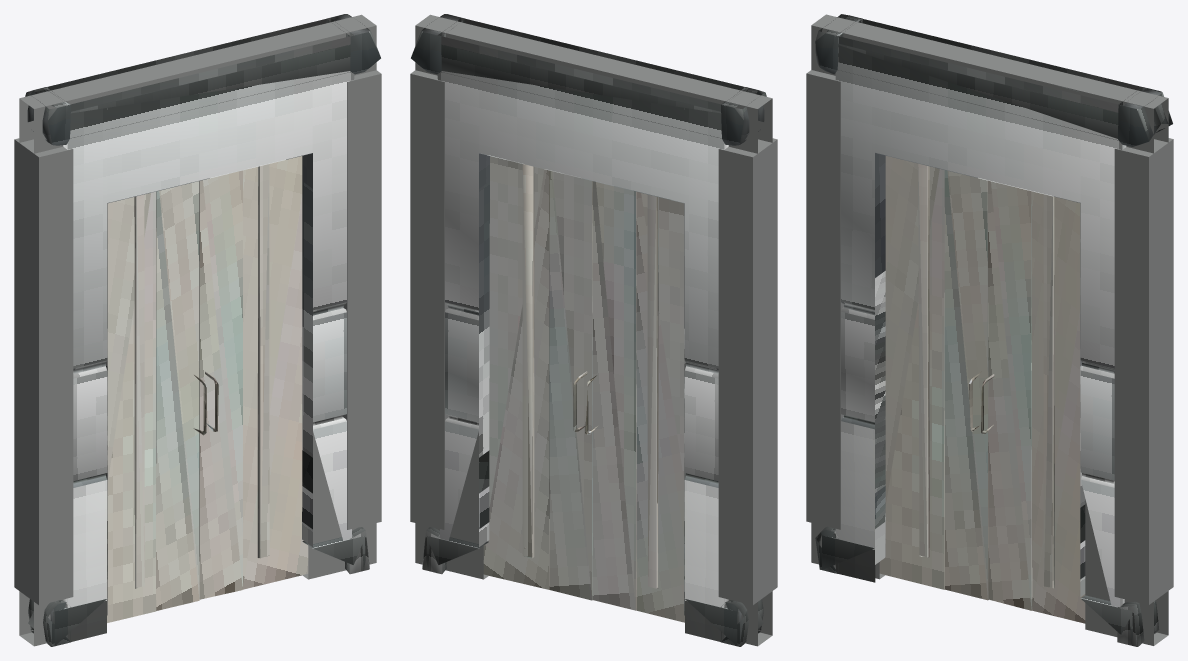
The model's file is wall-door.lod2.glb.
3 views of the same model, side by side, from view 1: azimuth 30°, elevation 25°; view 2: azimuth 150°, elevation 25°; view 3: azimuth 330°, elevation 25° (orthographic).
Size of the model in its own units: 2 by 3 by 0.2989.
2 materials, 2 textured.
